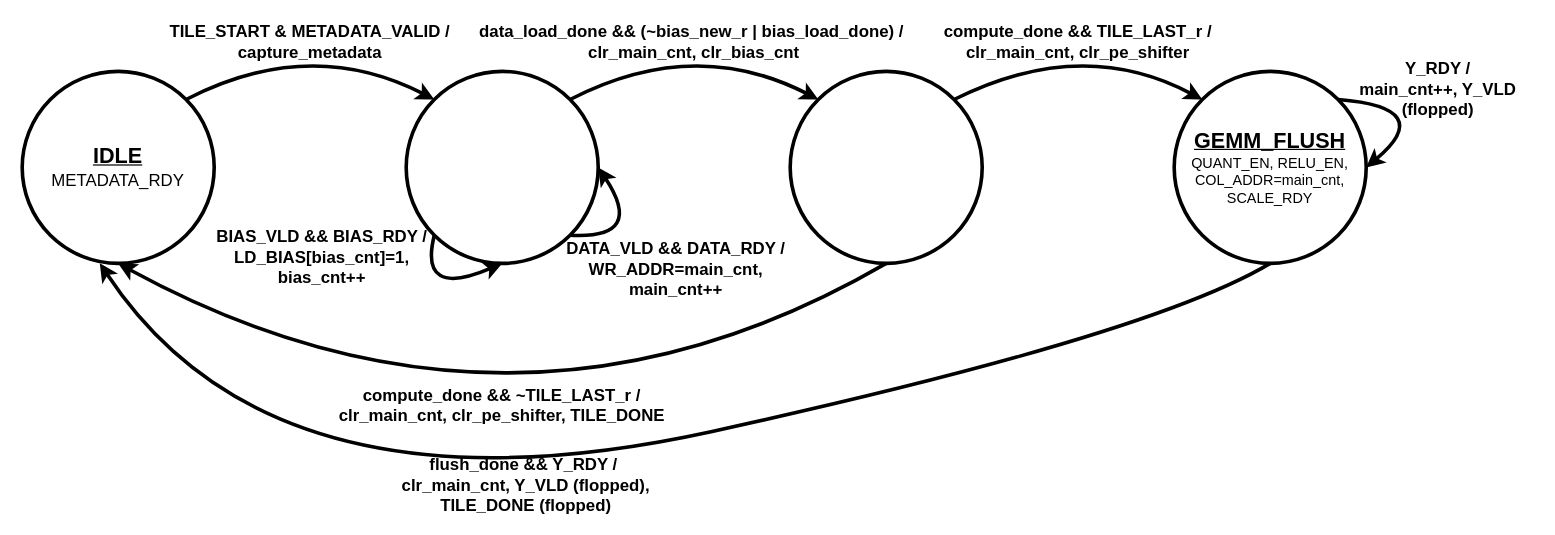
Some shapes in this 1555 by 535 pixel diagram are drawn without their labels. The centre of each missing label's shape, as x and y in pixels:
GEMM_COMPUTE H/V_PE_EN, A/W_OUT_EN, main_cnt++, pe_wave_shift: point 885,167
LOAD_FIFO DATA_RDY, BIAS_RDY, A/W_IN_EN, LD_BIAS: point 501,167
